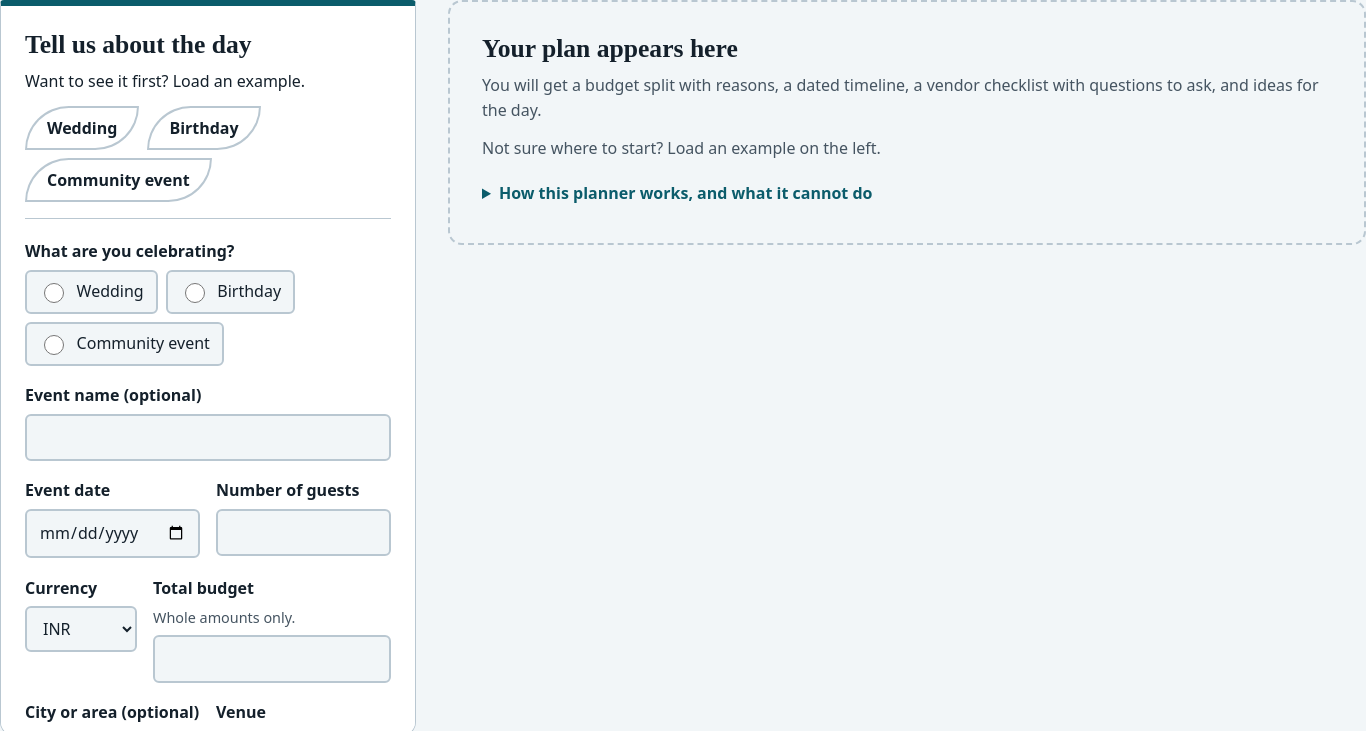
Test: PlanApp accessibility and flow › explains how the planner works and its limits before the first plan
Click the heading "How this planner works, and what it cannot do". click: (686, 194)
box: x1=499 y1=182 x2=872 y2=204
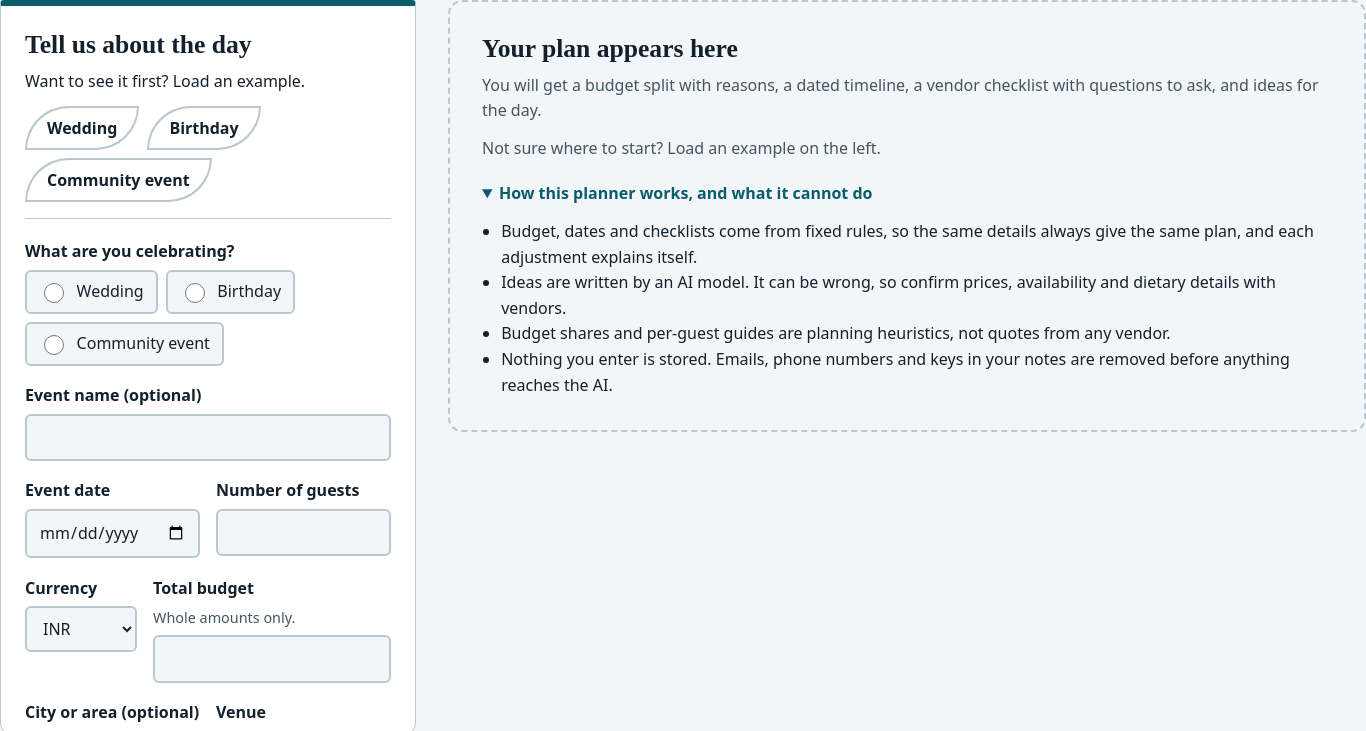
Result: the 2nd list item is shown at x1=501 y1=271 x2=1276 y2=319
Result: the list item "Nothing you enter is stored" is shown at x1=501 y1=348 x2=1290 y2=396
